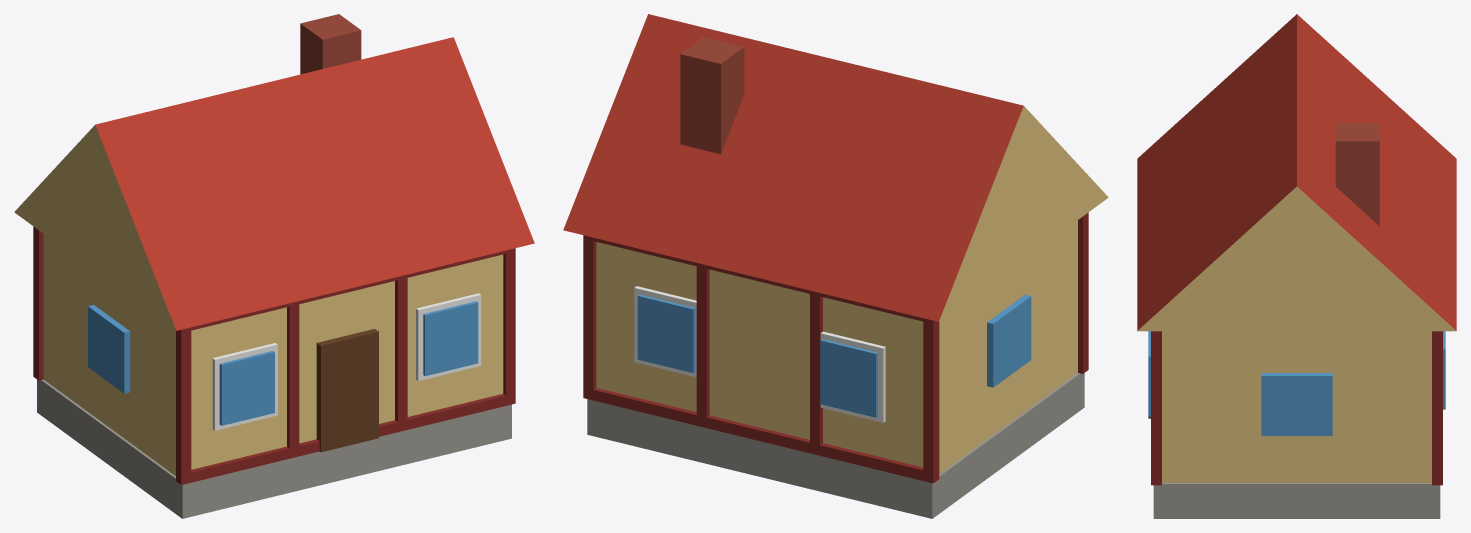
The model's file is 03_german_cottage_3.obj.
3 renders of one model, left to right at view 1: azimuth 30°, elevation 25°; view 2: azimuth 150°, elevation 25°; view 3: azimuth 270°, elevation 25°, orthographic. The views are drawn at different scales.
Visible parts, largest first — view 1: 03_german_cottage_3; view 2: 03_german_cottage_3; view 3: 03_german_cottage_3.
Part boxes in pixels (box(x1,y1,x2,y2)): 03_german_cottage_3: box(14, 14, 534, 518); 03_german_cottage_3: box(563, 14, 1108, 518); 03_german_cottage_3: box(1137, 14, 1456, 518).
Size of the model in its own units: 1.48 by 1.4 by 1.16.
